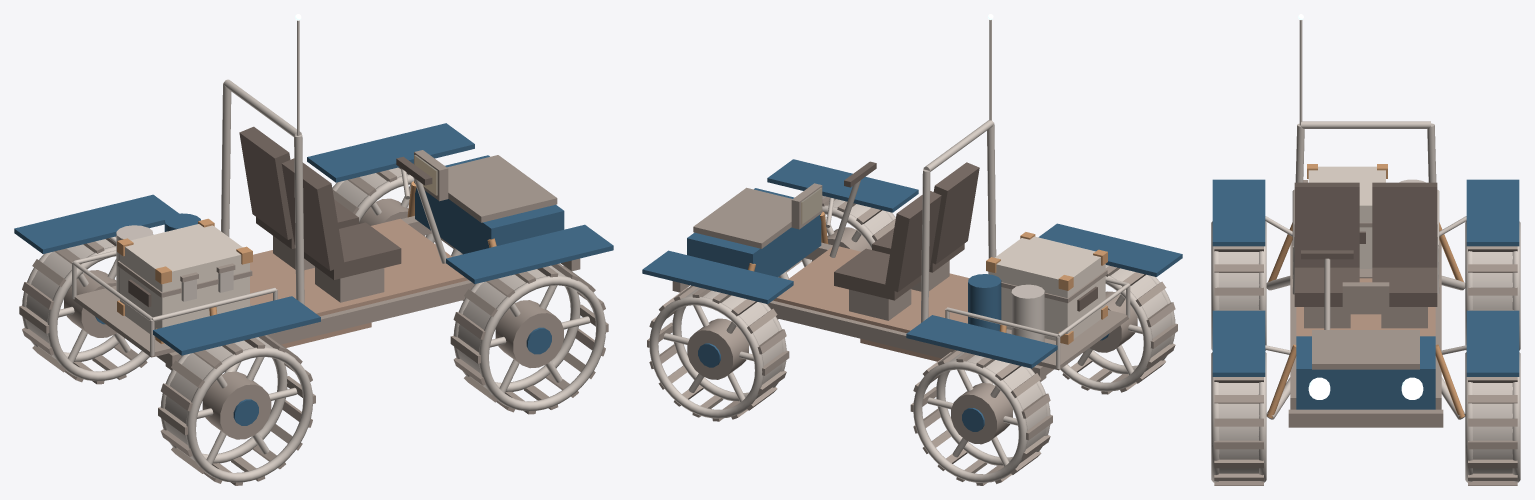
File: V01_open_rover_blue.glb
The picture shows the model from 3 angles, left to right: view 1: azimuth 30°, elevation 25°; view 2: azimuth 150°, elevation 25°; view 3: azimuth 270°, elevation 25°; orthographic projection. The views are drawn at different scales.
Visible parts, largest first — view 1: hub_cap, tread, tire, floor_pan; view 2: hub_cap, tread, tire, floor_pan; view 3: hub_cap, tread, tire, floor_pan, headlight.
Part boxes in pixels (<box>): hub_cap: <box>14,123,613,425</box>; tread: <box>19,150,608,485</box>; tire: <box>22,20,605,482</box>; floor_pan: <box>250,218,468,347</box>; hub_cap: <box>642,159,1182,431</box>; tread: <box>647,183,1177,485</box>; tire: <box>649,20,1175,482</box>; floor_pan: <box>773,246,969,361</box>; hub_cap: <box>1212,164,1519,418</box>; tread: <box>1214,180,1517,485</box>; tire: <box>1211,20,1520,482</box>; floor_pan: <box>1296,278,1435,336</box>; headlight: <box>1298,14,1423,399</box>.
Bounding box in the file's own units: 3.01 × 2.68 × 2.
